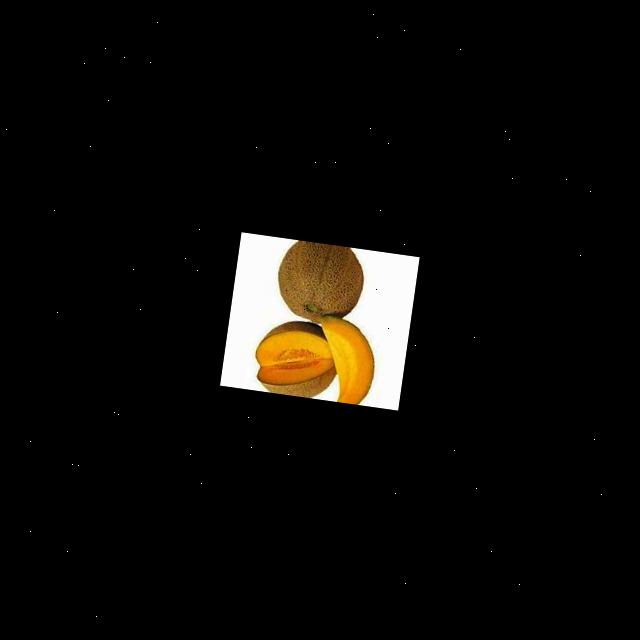Hami Melon: (272, 236, 368, 324), (249, 313, 338, 399), (312, 314, 381, 405)
